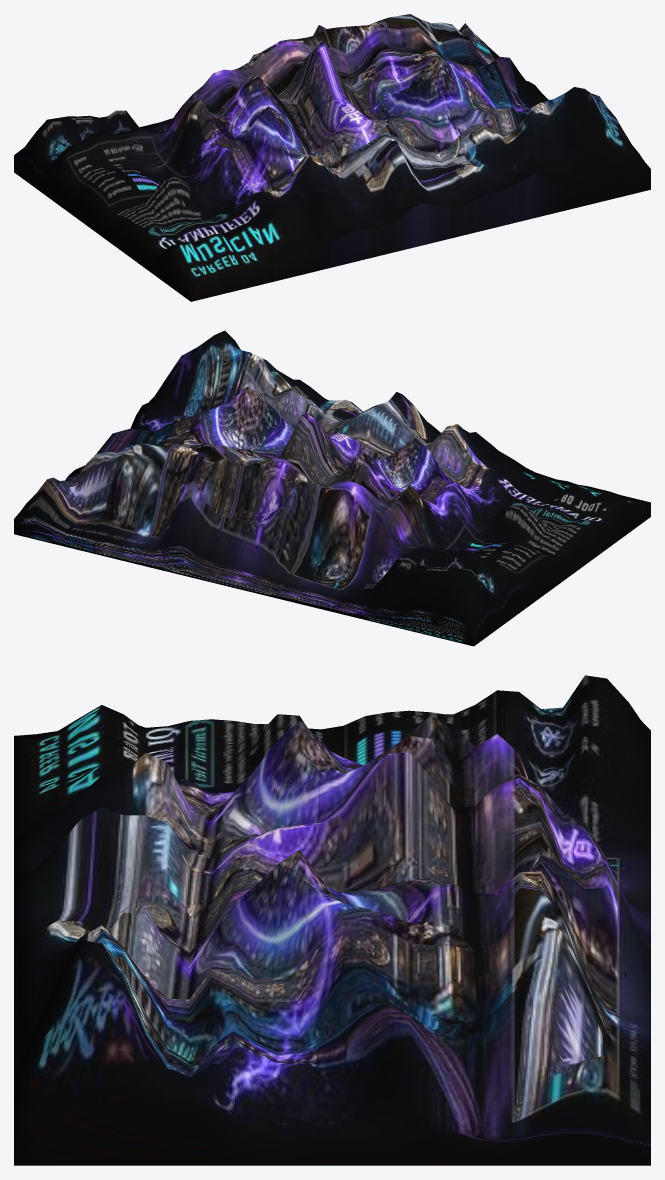
File: CAREER_04_Tool_08_Qi_Amplifier.glb
The picture shows the model from 3 angles, top to bottom: view 1: azimuth 30°, elevation 25°; view 2: azimuth 150°, elevation 25°; view 3: azimuth 270°, elevation 25°; orthographic projection. The views are drawn at different scales.
Visible parts, largest first — view 1: CAREER_04_Tool_08_Qi_Amplifier; view 2: CAREER_04_Tool_08_Qi_Amplifier; view 3: CAREER_04_Tool_08_Qi_Amplifier.
Part boxes in pixels (bbox=[...]): CAREER_04_Tool_08_Qi_Amplifier: bbox=[14, 14, 650, 301]; CAREER_04_Tool_08_Qi_Amplifier: bbox=[14, 330, 650, 646]; CAREER_04_Tool_08_Qi_Amplifier: bbox=[14, 675, 650, 1165].
Size of the model in its own units: 2 by 0.51 by 1.33.
Materials: 1 (1 with a texture image).
